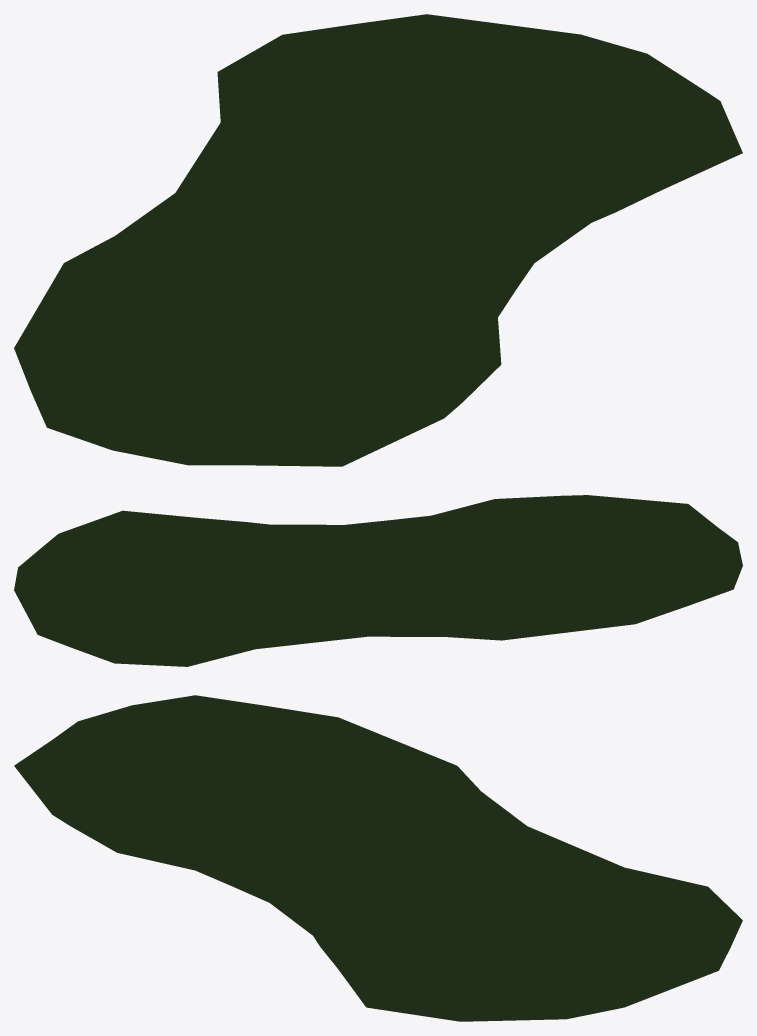
The model's file is Grass.fbx.
3 views of the same model, one above another, from view 1: azimuth 30°, elevation 25°; view 2: azimuth 150°, elevation 25°; view 3: azimuth 270°, elevation 25° (orthographic). The views are drawn at different scales.
Visible parts, largest first — view 1: Grass; view 2: Grass; view 3: Grass.
Part boxes in pixels (x1=…): Grass: x1=14, y1=14, x2=742, y2=466; Grass: x1=14, y1=495, x2=742, y2=666; Grass: x1=14, y1=695, x2=742, y2=1021.
Size of the model in its own units: 1233 by 1164 by 7.15e-14.
